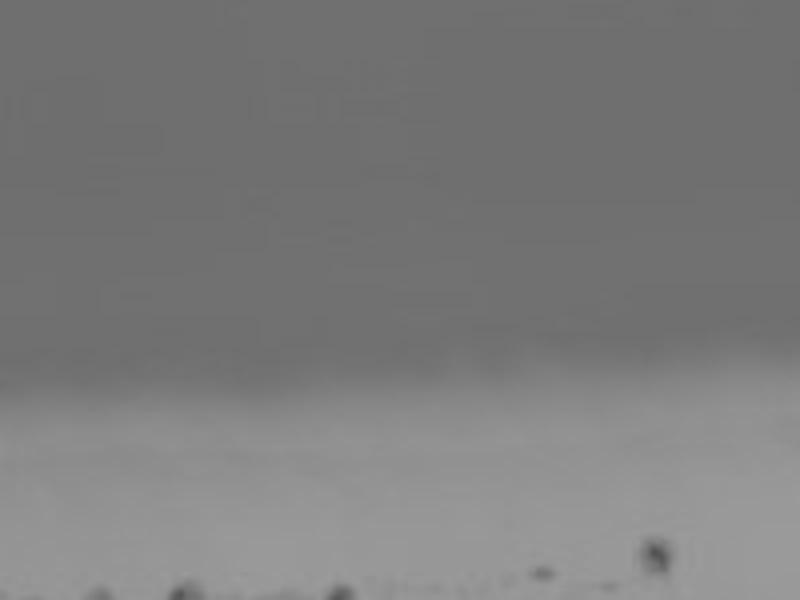defect: (633, 531, 681, 571), (171, 579, 207, 600), (81, 582, 114, 600), (329, 580, 358, 599), (529, 559, 556, 579)
